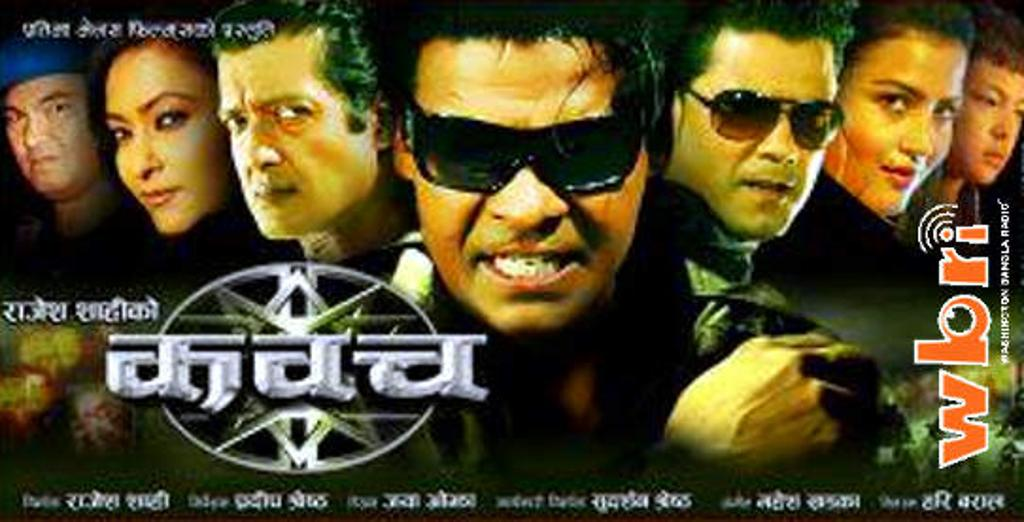face: (412, 32, 646, 326), (220, 36, 380, 228), (688, 34, 836, 230), (846, 34, 966, 214), (106, 50, 222, 232), (8, 62, 102, 188), (954, 64, 1024, 180)
